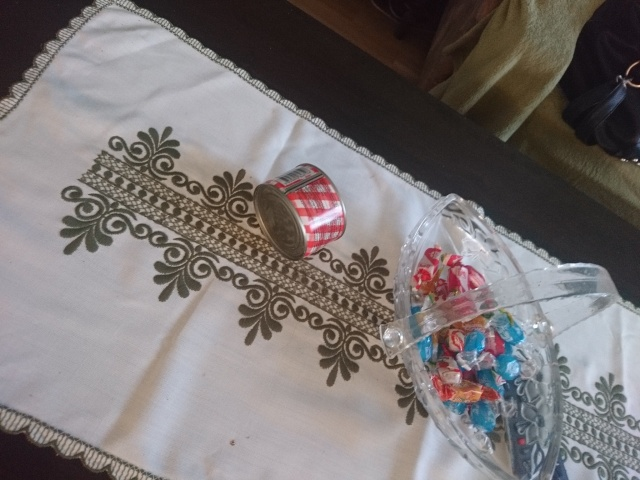Podravka Luncheon Meat 150g: (249, 160, 350, 264)
